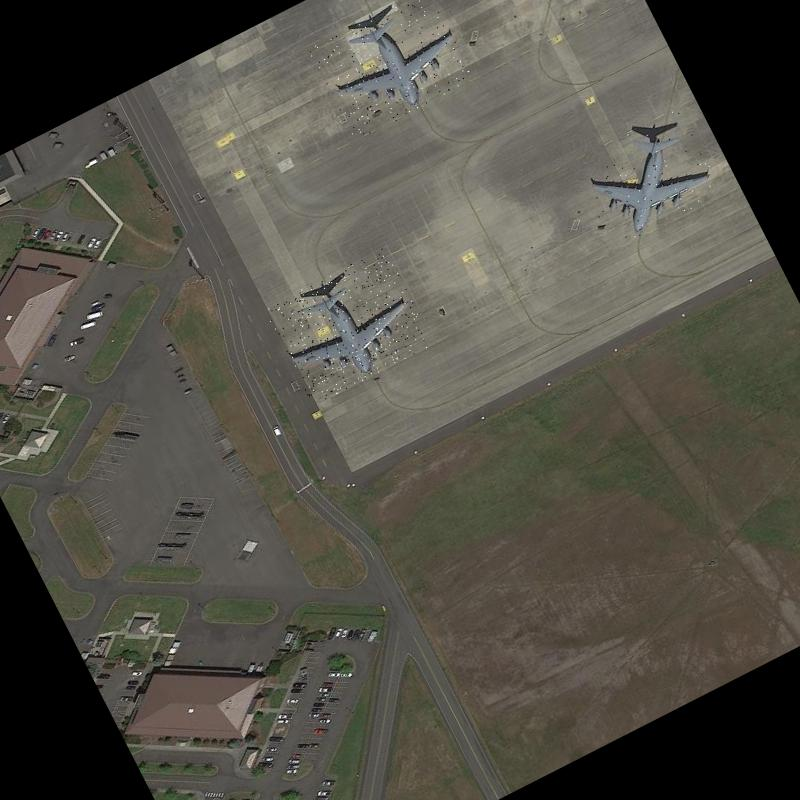A3: (263, 246, 434, 405), (306, 0, 475, 141), (568, 106, 724, 249)
